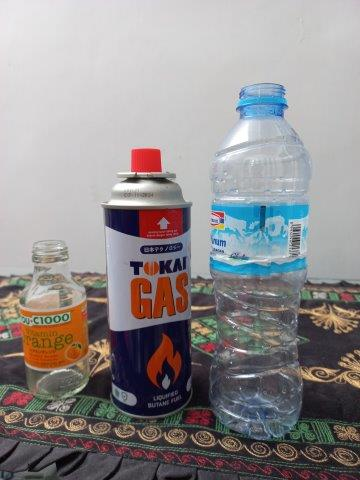botolkaca: (22, 241, 88, 399)
botolplastik: (208, 83, 312, 438)
kaleng: (107, 149, 192, 418)
